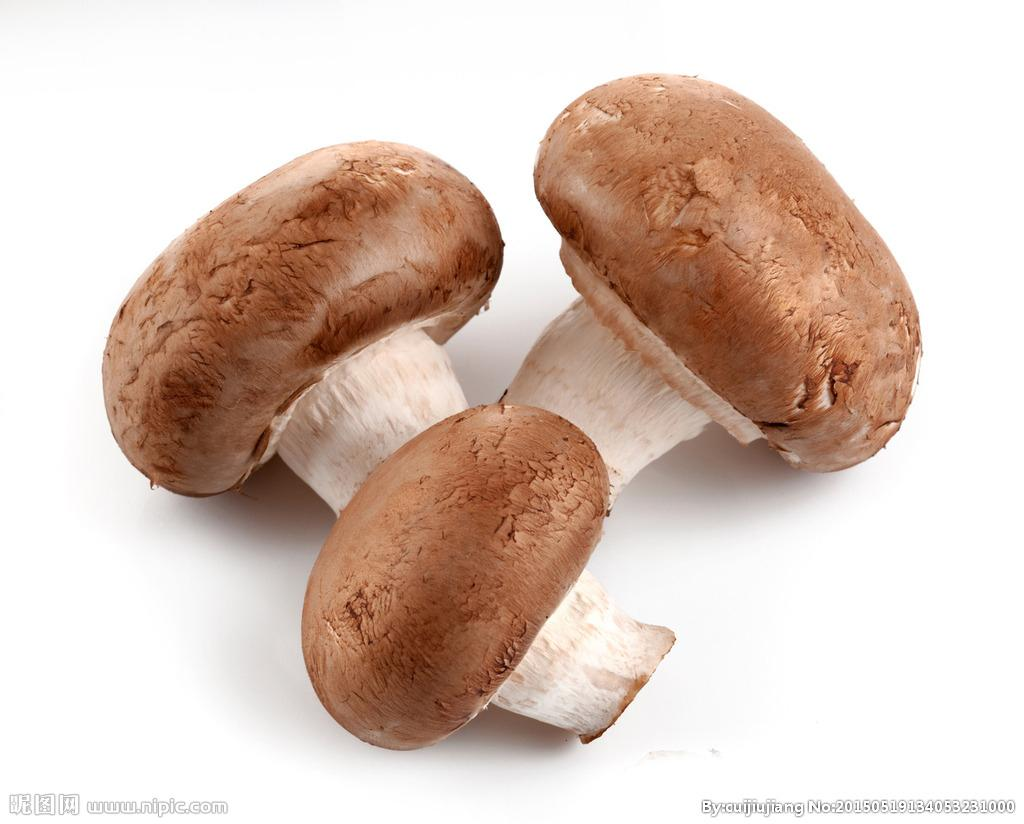B: (499, 72, 923, 511), (98, 141, 491, 493), (303, 405, 679, 754)
